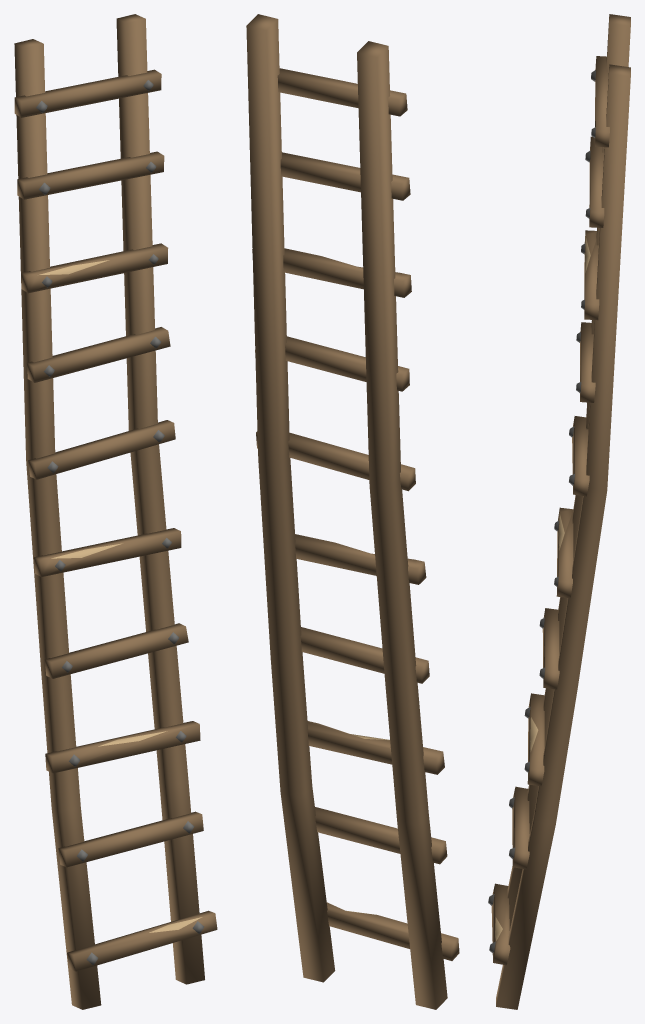
The model's file is rpgpp_ag_ladder_tower_01_4m.fbx.
The picture shows the model from 3 angles, left to right: view 1: azimuth 30°, elevation 25°; view 2: azimuth 150°, elevation 25°; view 3: azimuth 270°, elevation 25°; orthographic projection. The views are drawn at different scales.
Parts seen in each view (by area): view 1: rpgpp_ag_ladder_tower_01_4m; view 2: rpgpp_ag_ladder_tower_01_4m; view 3: rpgpp_ag_ladder_tower_01_4m.
Boxes of the visible parts, x1,y1,x2,y2 form: rpgpp_ag_ladder_tower_01_4m: (14, 14, 217, 1009); rpgpp_ag_ladder_tower_01_4m: (246, 14, 459, 1009); rpgpp_ag_ladder_tower_01_4m: (488, 14, 630, 1009).
Size of the model in its own units: 0.7109 by 4.25 by 0.5884.
